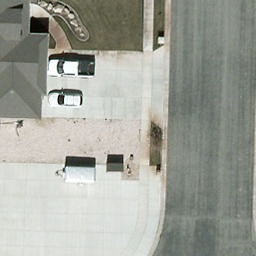car: (44, 92, 85, 106)
pickup: (48, 60, 95, 77)
